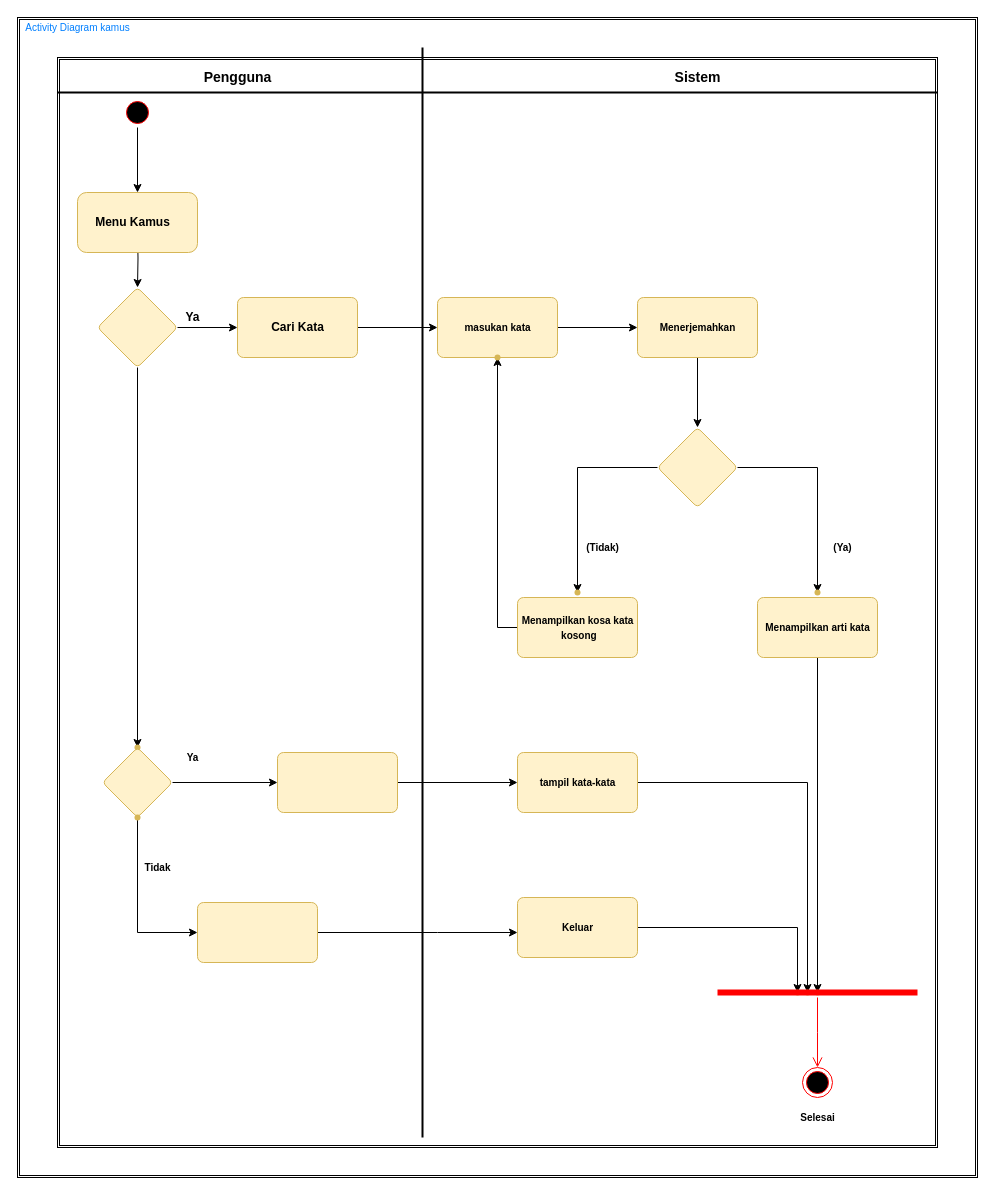
This 995x1195 diagram has some shape labels left out. The shapes that lost their labels are listed below. From the top down, each one's centre as x and y in pixels, then its label:
At (x=697, y=467): "Apakah ketemu".
At (x=337, y=782): "kosa kata".
At (x=257, y=932): "Pilih keluar".
